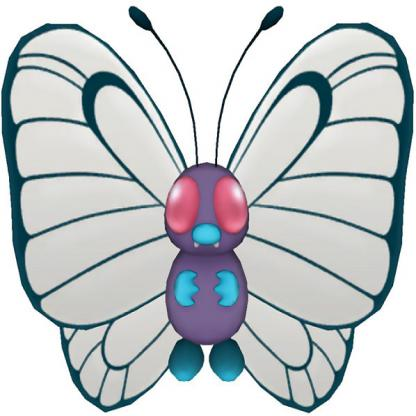Butterfree: (11, 8, 416, 410)
